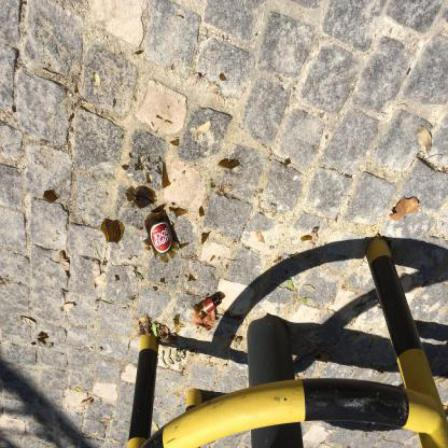Bottle: (146, 212, 176, 264), (195, 295, 223, 323)
Broken glass: (135, 188, 158, 210), (102, 218, 121, 244), (218, 161, 241, 171), (44, 191, 60, 205), (163, 163, 171, 191), (170, 209, 189, 220), (126, 188, 136, 208), (176, 315, 182, 334), (203, 235, 211, 247), (38, 339, 48, 347), (200, 206, 206, 218), (171, 138, 180, 146), (302, 237, 314, 243), (144, 238, 152, 246), (156, 167, 162, 177), (181, 244, 189, 250), (286, 159, 292, 167), (136, 164, 142, 172), (139, 156, 143, 168), (220, 76, 228, 82), (69, 116, 75, 123), (148, 174, 152, 184), (123, 166, 131, 171), (211, 255, 217, 261), (113, 101, 117, 110), (39, 332, 45, 338), (177, 16, 186, 20), (189, 276, 196, 281), (165, 121, 173, 125), (157, 128, 161, 136), (136, 51, 144, 55), (117, 277, 122, 283), (129, 153, 134, 159), (212, 183, 217, 189), (148, 158, 153, 164), (157, 116, 163, 121), (146, 246, 152, 251), (147, 166, 152, 171), (154, 162, 160, 166), (45, 333, 49, 339), (76, 87, 79, 94), (162, 278, 166, 283), (183, 171, 187, 176), (33, 343, 38, 347), (173, 203, 177, 207), (154, 288, 158, 292), (153, 124, 157, 128), (141, 228, 145, 232), (143, 165, 145, 171), (160, 157, 162, 163), (165, 283, 169, 285)
Cigarette: (115, 441, 123, 446)
